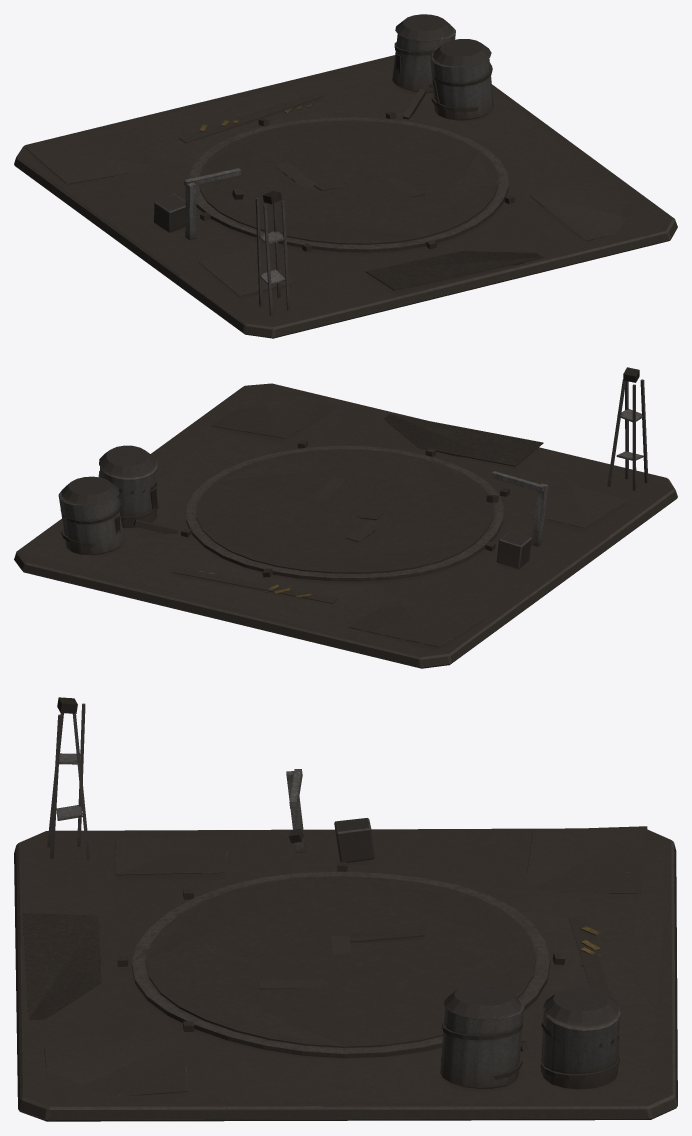
Rendered from chs_airpad_wreck.fbx.
3 views of the same model, one above another, from view 1: azimuth 30°, elevation 25°; view 2: azimuth 150°, elevation 25°; view 3: azimuth 270°, elevation 25° (orthographic). The views are drawn at different scales.
Visible parts, largest first — view 1: base_bar; view 2: base_bar; view 3: base_bar.
Part boxes in pixels (x1,y1,x2,y2): base_bar: (14,14,677,338); base_bar: (14,367,677,668); base_bar: (14,697,677,1121).
Size of the model in its own units: 2323 by 838 by 2319.
2 materials, 2 textured.
